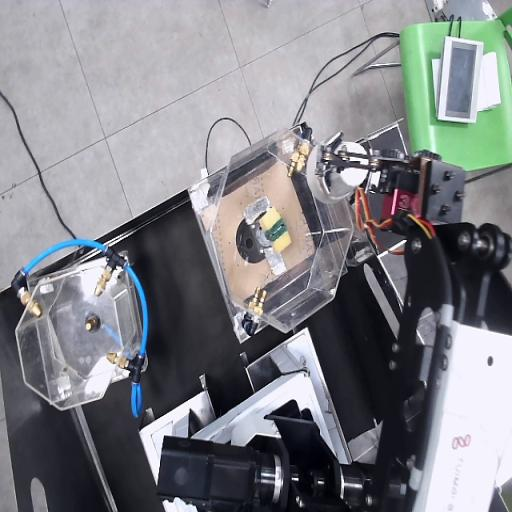cup in wash station: (306, 132, 368, 203)
